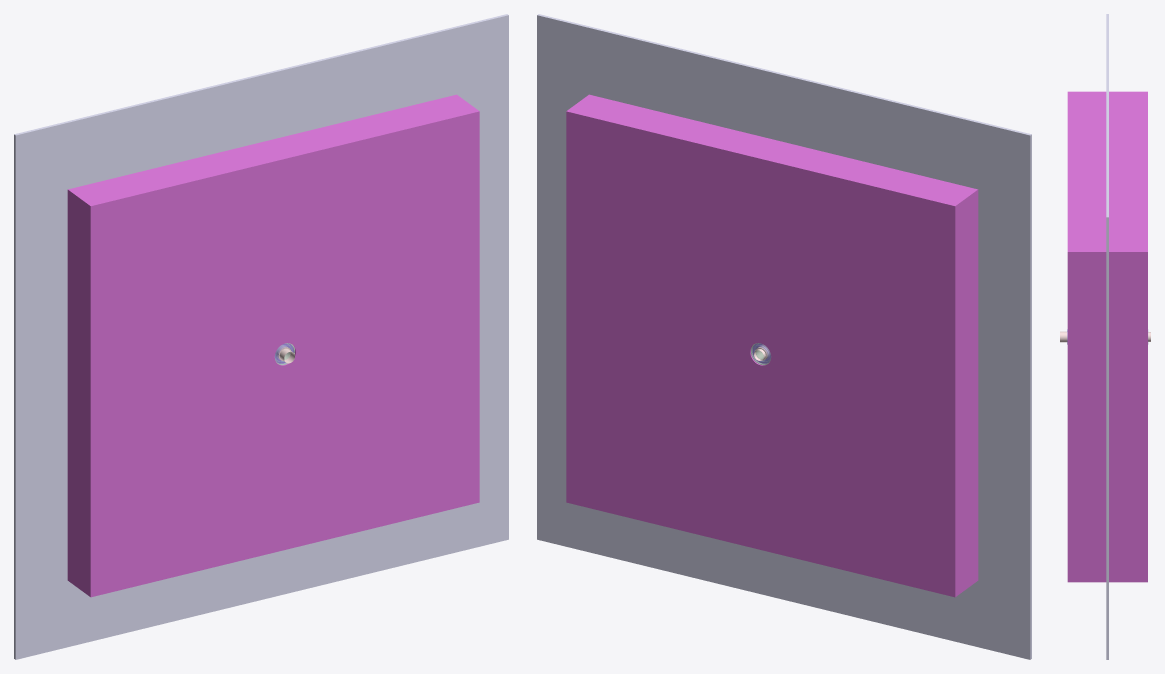
Rendered from LHCb_run3_UT.gltf.
3 views of the same model, side by side, from view 1: azimuth 30°, elevation 25°; view 2: azimuth 150°, elevation 25°; view 3: azimuth 270°, elevation 25° (orthographic). The views are drawn at different scales.
Parts seen in each view (by area): view 1: _dd_Geometry_BeforeMagnetRegion_UT_lvUT_pvUTBox0x183feb90, _dd_Geometry_BeforeMagnetRegion_UT_lvUT_pvUTFrame0x183fde60; view 2: _dd_Geometry_BeforeMagnetRegion_UT_lvUT_pvUTBox0x183feb90, _dd_Geometry_BeforeMagnetRegion_UT_lvUT_pvUTFrame0x183fde60; view 3: _dd_Geometry_BeforeMagnetRegion_UT_lvUT_pvUTBox0x183feb90, _dd_Geometry_BeforeMagnetRegion_UT_lvUT_pvUTFrame0x183fde60.
Part boxes in pixels (box(x1,y1,x2,y2)): _dd_Geometry_BeforeMagnetRegion_UT_lvUT_pvUTBox0x183feb90: box(67, 94, 479, 597); _dd_Geometry_BeforeMagnetRegion_UT_lvUT_pvUTFrame0x183fde60: box(14, 14, 508, 659); _dd_Geometry_BeforeMagnetRegion_UT_lvUT_pvUTBox0x183feb90: box(566, 94, 978, 597); _dd_Geometry_BeforeMagnetRegion_UT_lvUT_pvUTFrame0x183fde60: box(537, 14, 1031, 659); _dd_Geometry_BeforeMagnetRegion_UT_lvUT_pvUTBox0x183feb90: box(1067, 91, 1147, 582); _dd_Geometry_BeforeMagnetRegion_UT_lvUT_pvUTFrame0x183fde60: box(1106, 14, 1108, 659).
Size of the model in its own units: 2586 by 2628 by 488.
